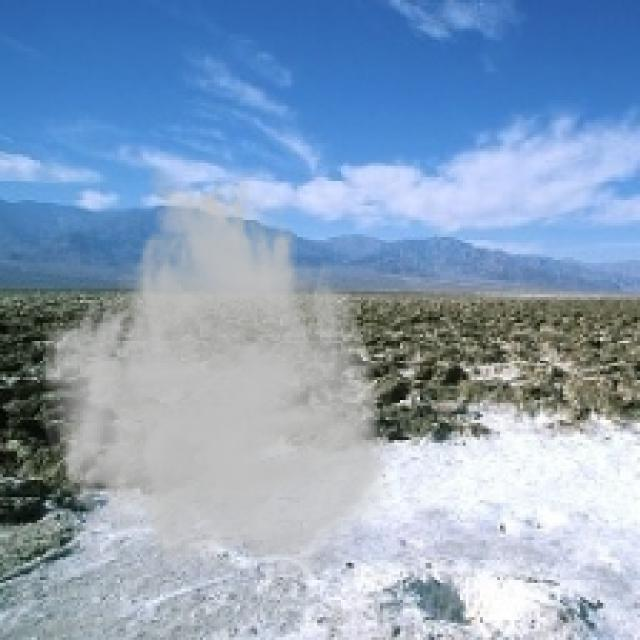smoke: (37, 163, 394, 588)
